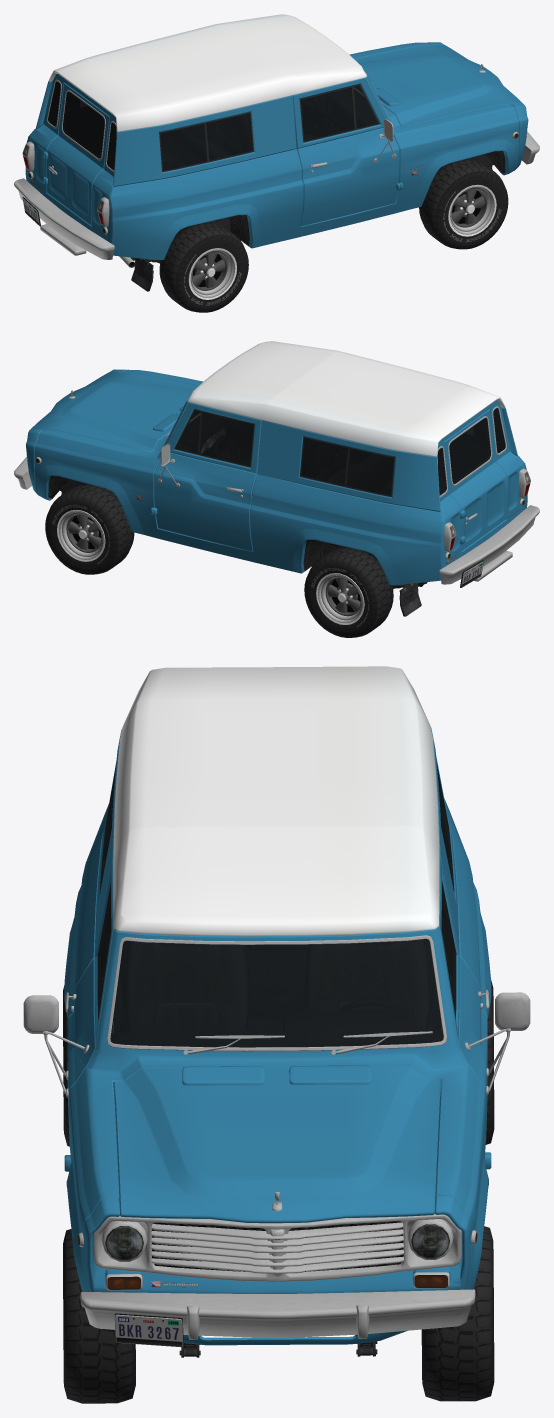
File: bokaroo_67.glb
3 views of the same model, one above another, from view 1: azimuth 30°, elevation 25°; view 2: azimuth 150°, elevation 25°; view 3: azimuth 270°, elevation 25° (orthographic). The views are drawn at different scales.
Parts seen in each view (by area): view 1: Bokaroo67_Body_BUCKAROO_67_Bodymat_0, Bokaroo67_Bottom_UCB_BOTTOM_0, Bokaroo67_Hood_BUCKAROO_67_Bodymat_0, Bokaroo67_Interior_UCB_Interiors_2_0, Bokaroo67_WheelStock_RR_RO1a_Tire_0, Bokaroo67_WheelStock_FR_RO1a_Tire_0, Bokaroo67_Bodyglass_UCB_Lights_and_Glass_Transperent_0, Bokaroo67_Bumper_rear_UCB_BOTTOM_0, Bokaroo67_Glass_Passenger_UCB_Lights_and_Glass_Transperent_0, Bokaroo67_rear_door_glass_UCB_Lights_and_Glass_Transperent_0, Bokaroo67_rear_door_inner_UCB_BOTTOM_0; view 2: Bokaroo67_Body_BUCKAROO_67_Bodymat_0, Bokaroo67_Bottom_UCB_BOTTOM_0, Bokaroo67_Hood_BUCKAROO_67_Bodymat_0, Bokaroo67_Interior_UCB_Interiors_2_0, Bokaroo67_WheelStock_RL_RO1a_Tire_0, Bokaroo67_WheelStock_FL_RO1a_Tire_0, Bokaroo67_Bodyglass_UCB_Lights_and_Glass_Transperent_0, Bokaroo67_Bumper_rear_UCB_BOTTOM_0, Bokaroo67_Glass_Driver_UCB_Lights_and_Glass_Transperent_0, Bokaroo67_rear_door_glass_UCB_Lights_and_Glass_Transperent_0, Bokaroo67_rear_door_inner_UCB_BOTTOM_0; view 3: Bokaroo67_Bottom_UCB_BOTTOM_0, Bokaroo67_Body_BUCKAROO_67_Bodymat_0, Bokaroo67_Hood_BUCKAROO_67_Bodymat_0, Bokaroo67_Windshield_UCB_Lights_and_Glass_Transperent_0, Bokaroo67_Interior_UCB_Interiors_2_0, Bokaroo67_Bumper_Front_UCB_BOTTOM_0, Bokaroo67_WheelStock_FL_RO1a_Tire_0, Bokaroo67_WheelStock_FR_RO1a_Tire_0, Bokaroo67_Headlight_Glass_UCB_Lights_and_Glass_0, Bokaroo67_Numberplate_Front_Numberplates_Misk_U_0, Bokaroo67_Bodyglass_UCB_Lights_and_Glass_Transperent_0, Bokaroo67_WheelStock_RL_RO1a_Tire_0.
Boxes of the visible parts, x1,y1,x2,y2 form: Bokaroo67_Body_BUCKAROO_67_Bodymat_0: [25, 42, 528, 259]; Bokaroo67_Bottom_UCB_BOTTOM_0: [22, 14, 518, 291]; Bokaroo67_Hood_BUCKAROO_67_Bodymat_0: [354, 44, 522, 126]; Bokaroo67_Interior_UCB_Interiors_2_0: [48, 82, 376, 169]; Bokaroo67_WheelStock_RR_RO1a_Tire_0: [159, 222, 248, 312]; Bokaroo67_WheelStock_FR_RO1a_Tire_0: [419, 159, 508, 249]; Bokaroo67_Bodyglass_UCB_Lights_and_Glass_Transperent_0: [48, 81, 378, 170]; Bokaroo67_Bumper_rear_UCB_BOTTOM_0: [14, 178, 114, 259]; Bokaroo67_Glass_Passenger_UCB_Lights_and_Glass_Transperent_0: [300, 87, 354, 141]; Bokaroo67_rear_door_glass_UCB_Lights_and_Glass_Transperent_0: [63, 92, 104, 158]; Bokaroo67_rear_door_inner_UCB_BOTTOM_0: [48, 90, 105, 174]; Bokaroo67_Body_BUCKAROO_67_Bodymat_0: [26, 369, 527, 585]; Bokaroo67_Bottom_UCB_BOTTOM_0: [35, 341, 530, 616]; Bokaroo67_Hood_BUCKAROO_67_Bodymat_0: [32, 371, 197, 451]; Bokaroo67_Interior_UCB_Interiors_2_0: [177, 408, 504, 494]; Bokaroo67_WheelStock_RL_RO1a_Tire_0: [304, 548, 393, 637]; Bokaroo67_WheelStock_FL_RO1a_Tire_0: [45, 484, 134, 574]; Bokaroo67_Bodyglass_UCB_Lights_and_Glass_Transperent_0: [176, 408, 505, 495]; Bokaroo67_Bumper_rear_UCB_BOTTOM_0: [439, 505, 539, 587]; Bokaroo67_Glass_Driver_UCB_Lights_and_Glass_Transperent_0: [199, 412, 253, 466]; Bokaroo67_rear_door_glass_UCB_Lights_and_Glass_Transperent_0: [449, 418, 490, 483]; Bokaroo67_rear_door_inner_UCB_BOTTOM_0: [448, 416, 492, 525]; Bokaroo67_Bottom_UCB_BOTTOM_0: [23, 666, 530, 1290]; Bokaroo67_Body_BUCKAROO_67_Bodymat_0: [64, 727, 491, 1345]; Bokaroo67_Hood_BUCKAROO_67_Bodymat_0: [113, 1065, 441, 1223]; Bokaroo67_Windshield_UCB_Lights_and_Glass_Transperent_0: [110, 939, 443, 1047]; Bokaroo67_Interior_UCB_Interiors_2_0: [102, 822, 452, 1046]; Bokaroo67_Bumper_Front_UCB_BOTTOM_0: [80, 1289, 475, 1345]; Bokaroo67_WheelStock_FL_RO1a_Tire_0: [421, 1226, 494, 1401]; Bokaroo67_WheelStock_FR_RO1a_Tire_0: [63, 1229, 135, 1403]; Bokaroo67_Headlight_Glass_UCB_Lights_and_Glass_0: [105, 1224, 449, 1260]; Bokaroo67_Numberplate_Front_Numberplates_Misk_U_0: [114, 1314, 183, 1347]; Bokaroo67_Bodyglass_UCB_Lights_and_Glass_Transperent_0: [98, 762, 455, 1016]; Bokaroo67_WheelStock_RL_RO1a_Tire_0: [485, 980, 494, 1144].
Size of the model in its own units: 4.59 by 1.96 by 2.21.
Materials: 8 (7 with a texture image).
